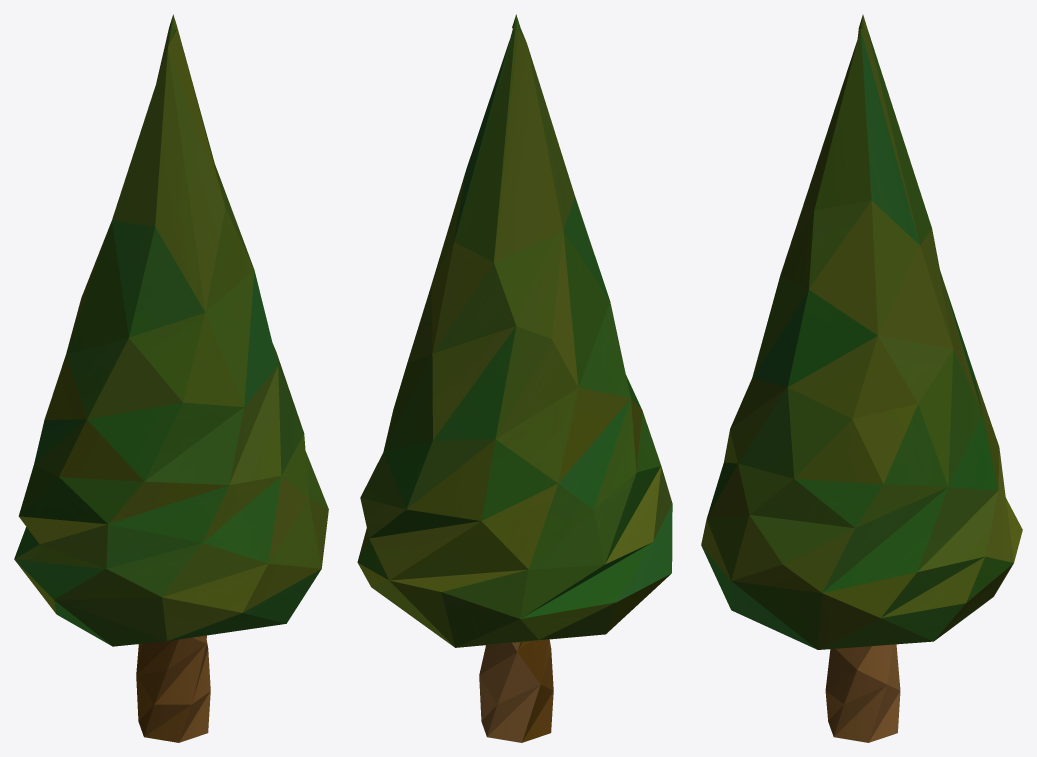
The model's file is 4seasons_tree_pine.FBX.
3 views of the same model, side by side, from view 1: azimuth 30°, elevation 25°; view 2: azimuth 150°, elevation 25°; view 3: azimuth 270°, elevation 25° (orthographic).
Parts seen in each view (by area): view 1: 4seasons_tree_pine; view 2: 4seasons_tree_pine; view 3: 4seasons_tree_pine.
Part boxes in pixels (x1,y1,x2,y2): 4seasons_tree_pine: (14, 14, 328, 742); 4seasons_tree_pine: (357, 14, 672, 742); 4seasons_tree_pine: (701, 14, 1022, 742).
Bounding box in the file's own units: 159 × 392 × 160.
Materials: 2 (2 with a texture image).
